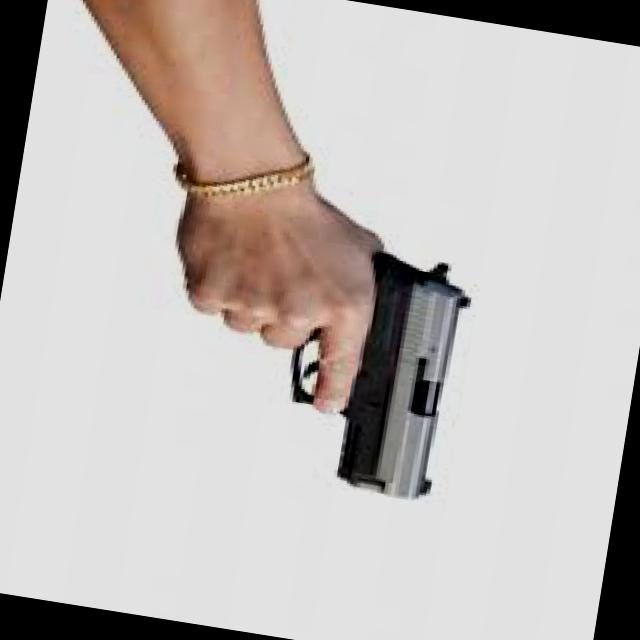handgun: (158, 198, 490, 504)
